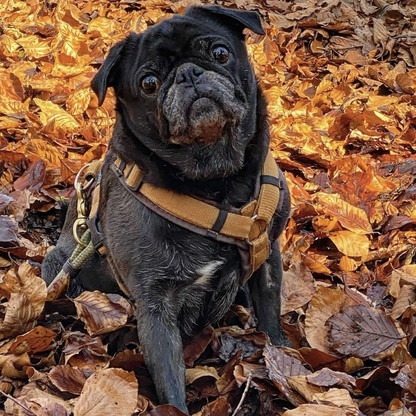Pug: (38, 1, 296, 416)
